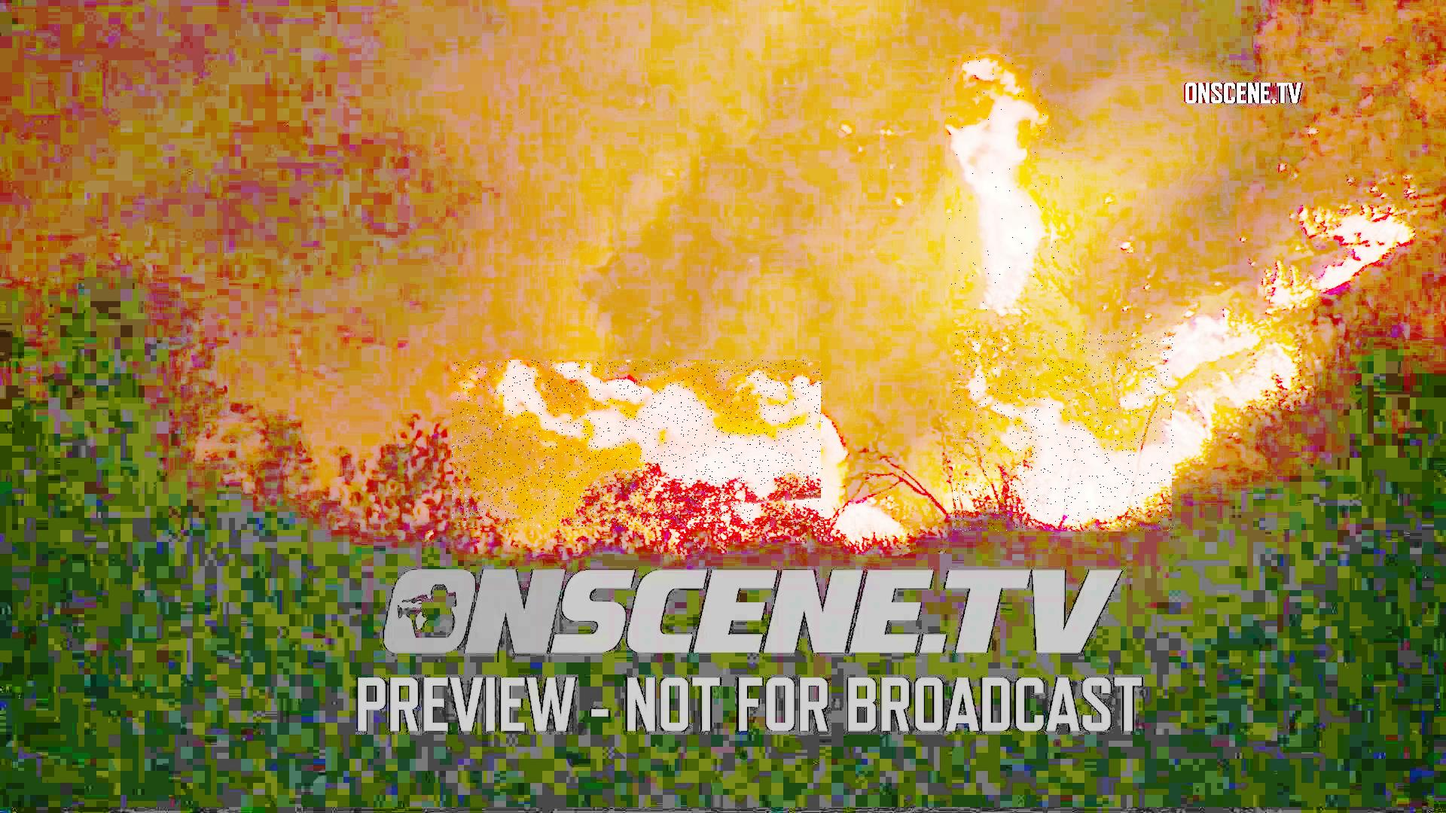fire: (452, 360, 823, 527), (953, 332, 1174, 532), (946, 55, 1064, 312)
